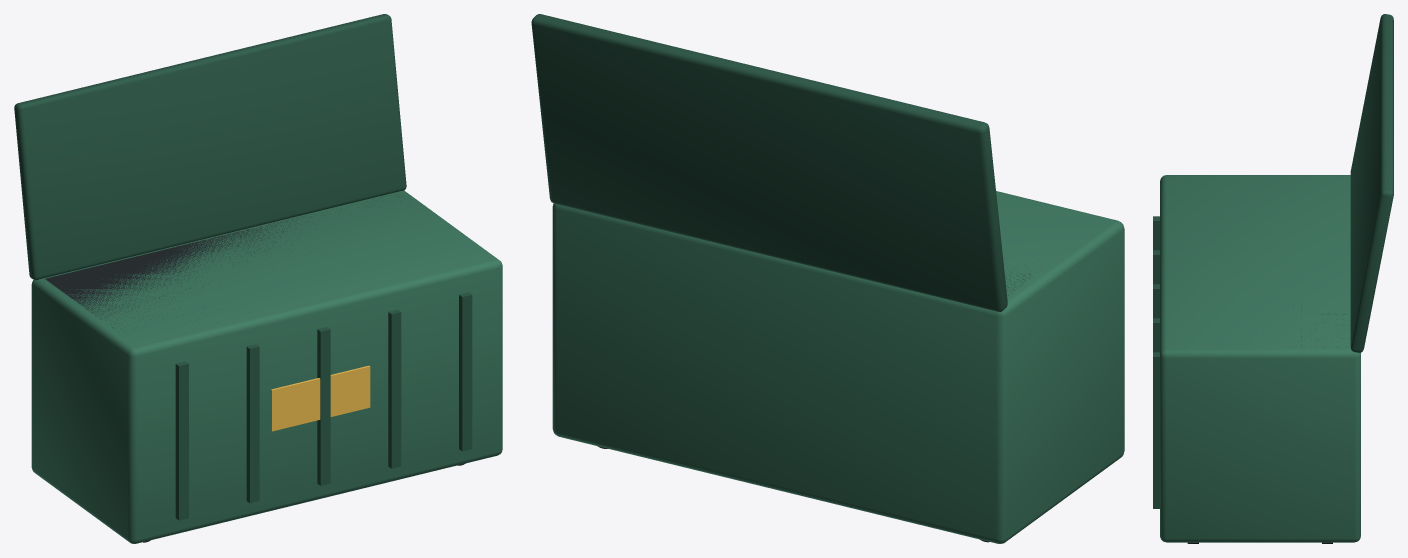
The model's file is dumpster_open.glb.
The picture shows the model from 3 angles, left to right: view 1: azimuth 30°, elevation 25°; view 2: azimuth 150°, elevation 25°; view 3: azimuth 270°, elevation 25°; orthographic projection. The views are drawn at different scales.
Parts seen in each view (by area): view 1: body.025, lid.009, inside.001, sticker.003, rib.040, rib.043, rib.039, rib.042, rib.041; view 2: body.025, lid.009; view 3: body.025, lid.009, rib.043.
Boxes of the visible parts, x1=… form: body.025: x1=31, y1=190, x2=502, y2=543; lid.009: x1=14, y1=14, x2=406, y2=279; inside.001: x1=45, y1=195, x2=400, y2=327; sticker.003: x1=271, y1=365, x2=370, y2=431; rib.040: x1=246, y1=344, x2=259, y2=503; rib.043: x1=459, y1=292, x2=472, y2=451; rib.039: x1=175, y1=361, x2=188, y2=520; rib.042: x1=388, y1=309, x2=401, y2=468; rib.041: x1=317, y1=327, x2=330, y2=485; body.025: x1=552, y1=191, x2=1124, y2=543; lid.009: x1=531, y1=14, x2=1007, y2=311; body.025: x1=1160, y1=175, x2=1360, y2=542; lid.009: x1=1350, y1=14, x2=1393, y2=352; rib.043: x1=1153, y1=352, x2=1159, y2=508.
Size of the model in its own units: 1.9 by 1.8 by 1.08.
